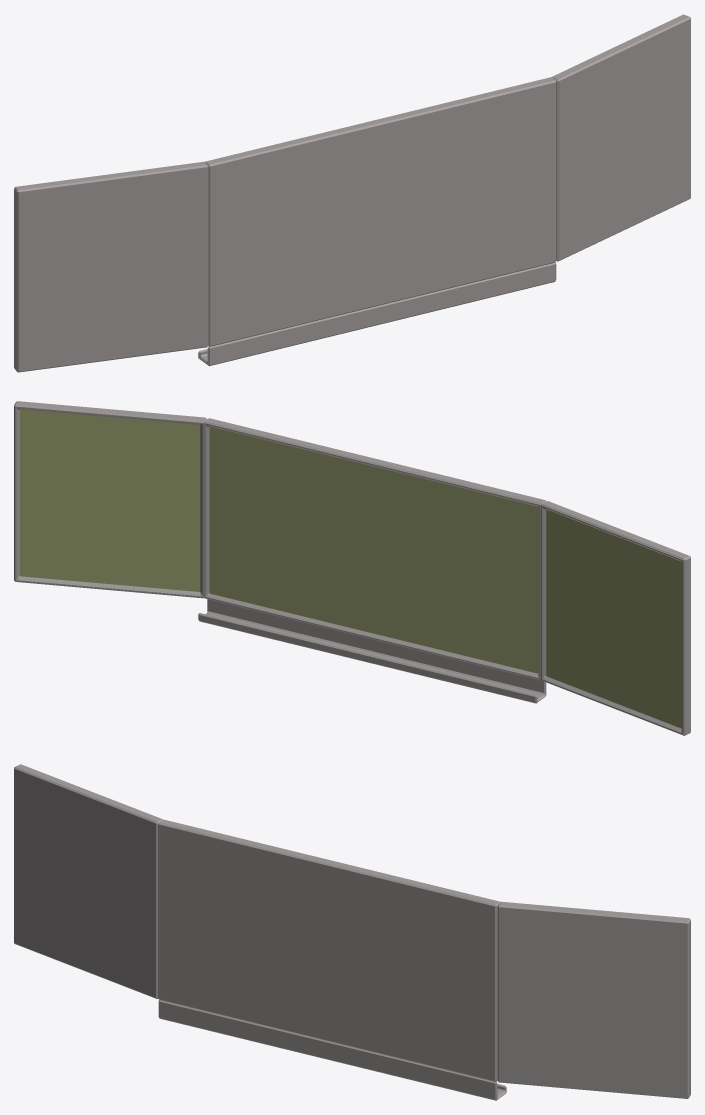
Rendered from Schultafel.fbx.
3 renders of one model, top to bottom at view 1: azimuth 30°, elevation 25°; view 2: azimuth 150°, elevation 25°; view 3: azimuth 330°, elevation 25°, orthographic. The views are drawn at different scales.
Parts seen in each view (by area): view 1: Schultafel; view 2: Schultafel; view 3: Schultafel.
Part boxes in pixels (box(x1,y1,x2,y2)): Schultafel: box(14, 14, 690, 372); Schultafel: box(14, 401, 690, 735); Schultafel: box(14, 764, 690, 1100).
Size of the model in its own units: 355 by 100 by 33.28.
